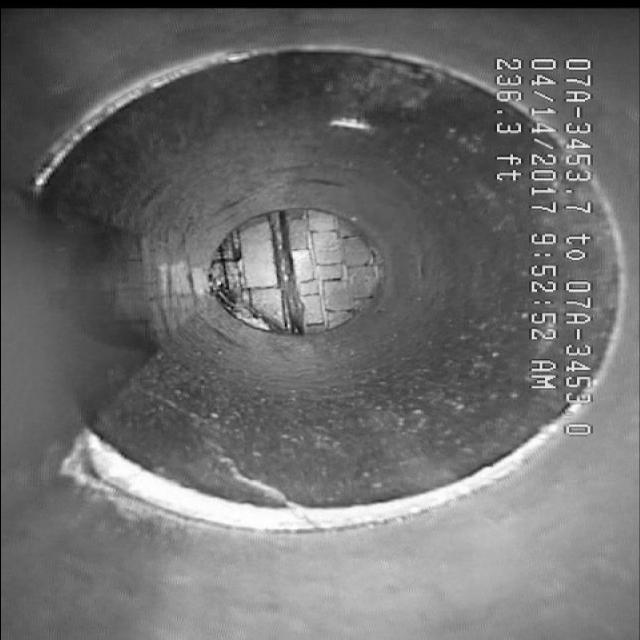Crack: (183, 416, 329, 529)
